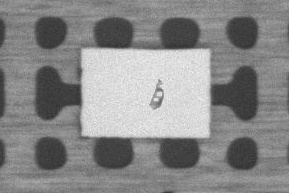DIE_INK: (147, 79, 168, 113)
